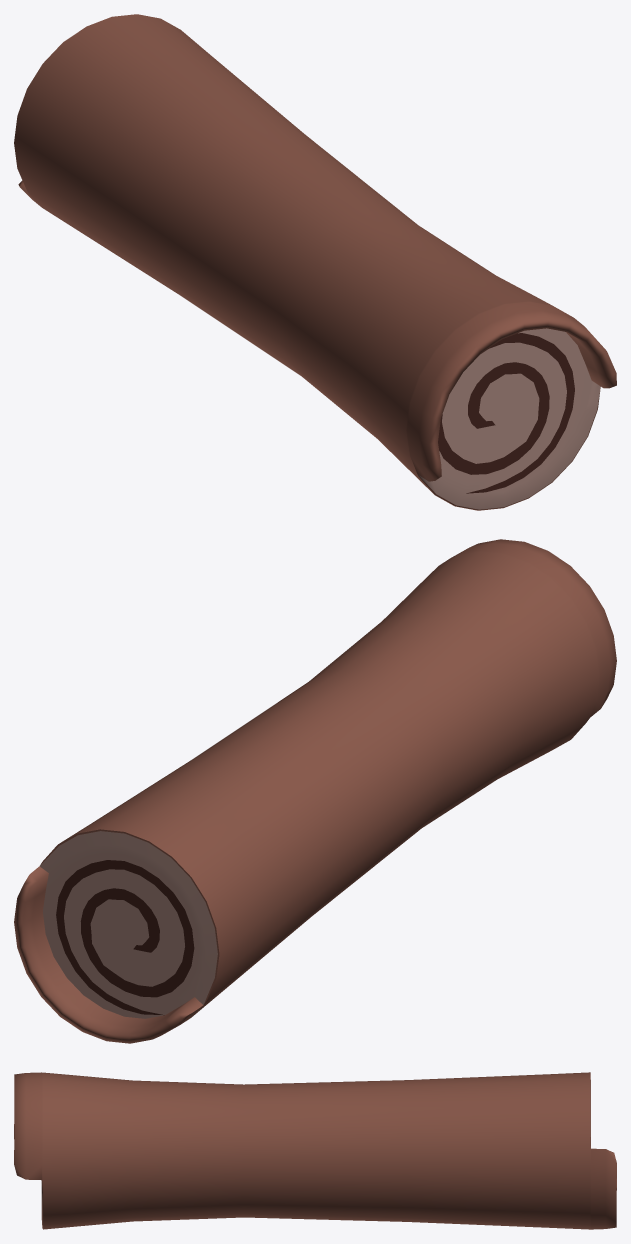
The model's file is Farm_7_Log_1.glb.
3 views of the same model, one above another, from view 1: azimuth 30°, elevation 25°; view 2: azimuth 150°, elevation 25°; view 3: azimuth 270°, elevation 25° (orthographic). The views are drawn at different scales.
Parts seen in each view (by area): view 1: Farm_7_Log_1; view 2: Farm_7_Log_1; view 3: Farm_7_Log_1.
Part boxes in pixels (x1,y1,x2,y2): Farm_7_Log_1: (14,14,616,510); Farm_7_Log_1: (14,539,616,1043); Farm_7_Log_1: (14,1072,616,1229).
Size of the model in its own units: 0.4448 by 0.4448 by 1.7.
1 material, 1 textured.
